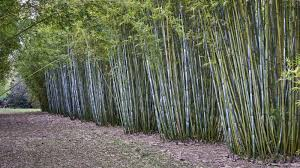bamboo: (108, 4, 216, 135), (222, 3, 297, 154), (25, 3, 100, 115)
